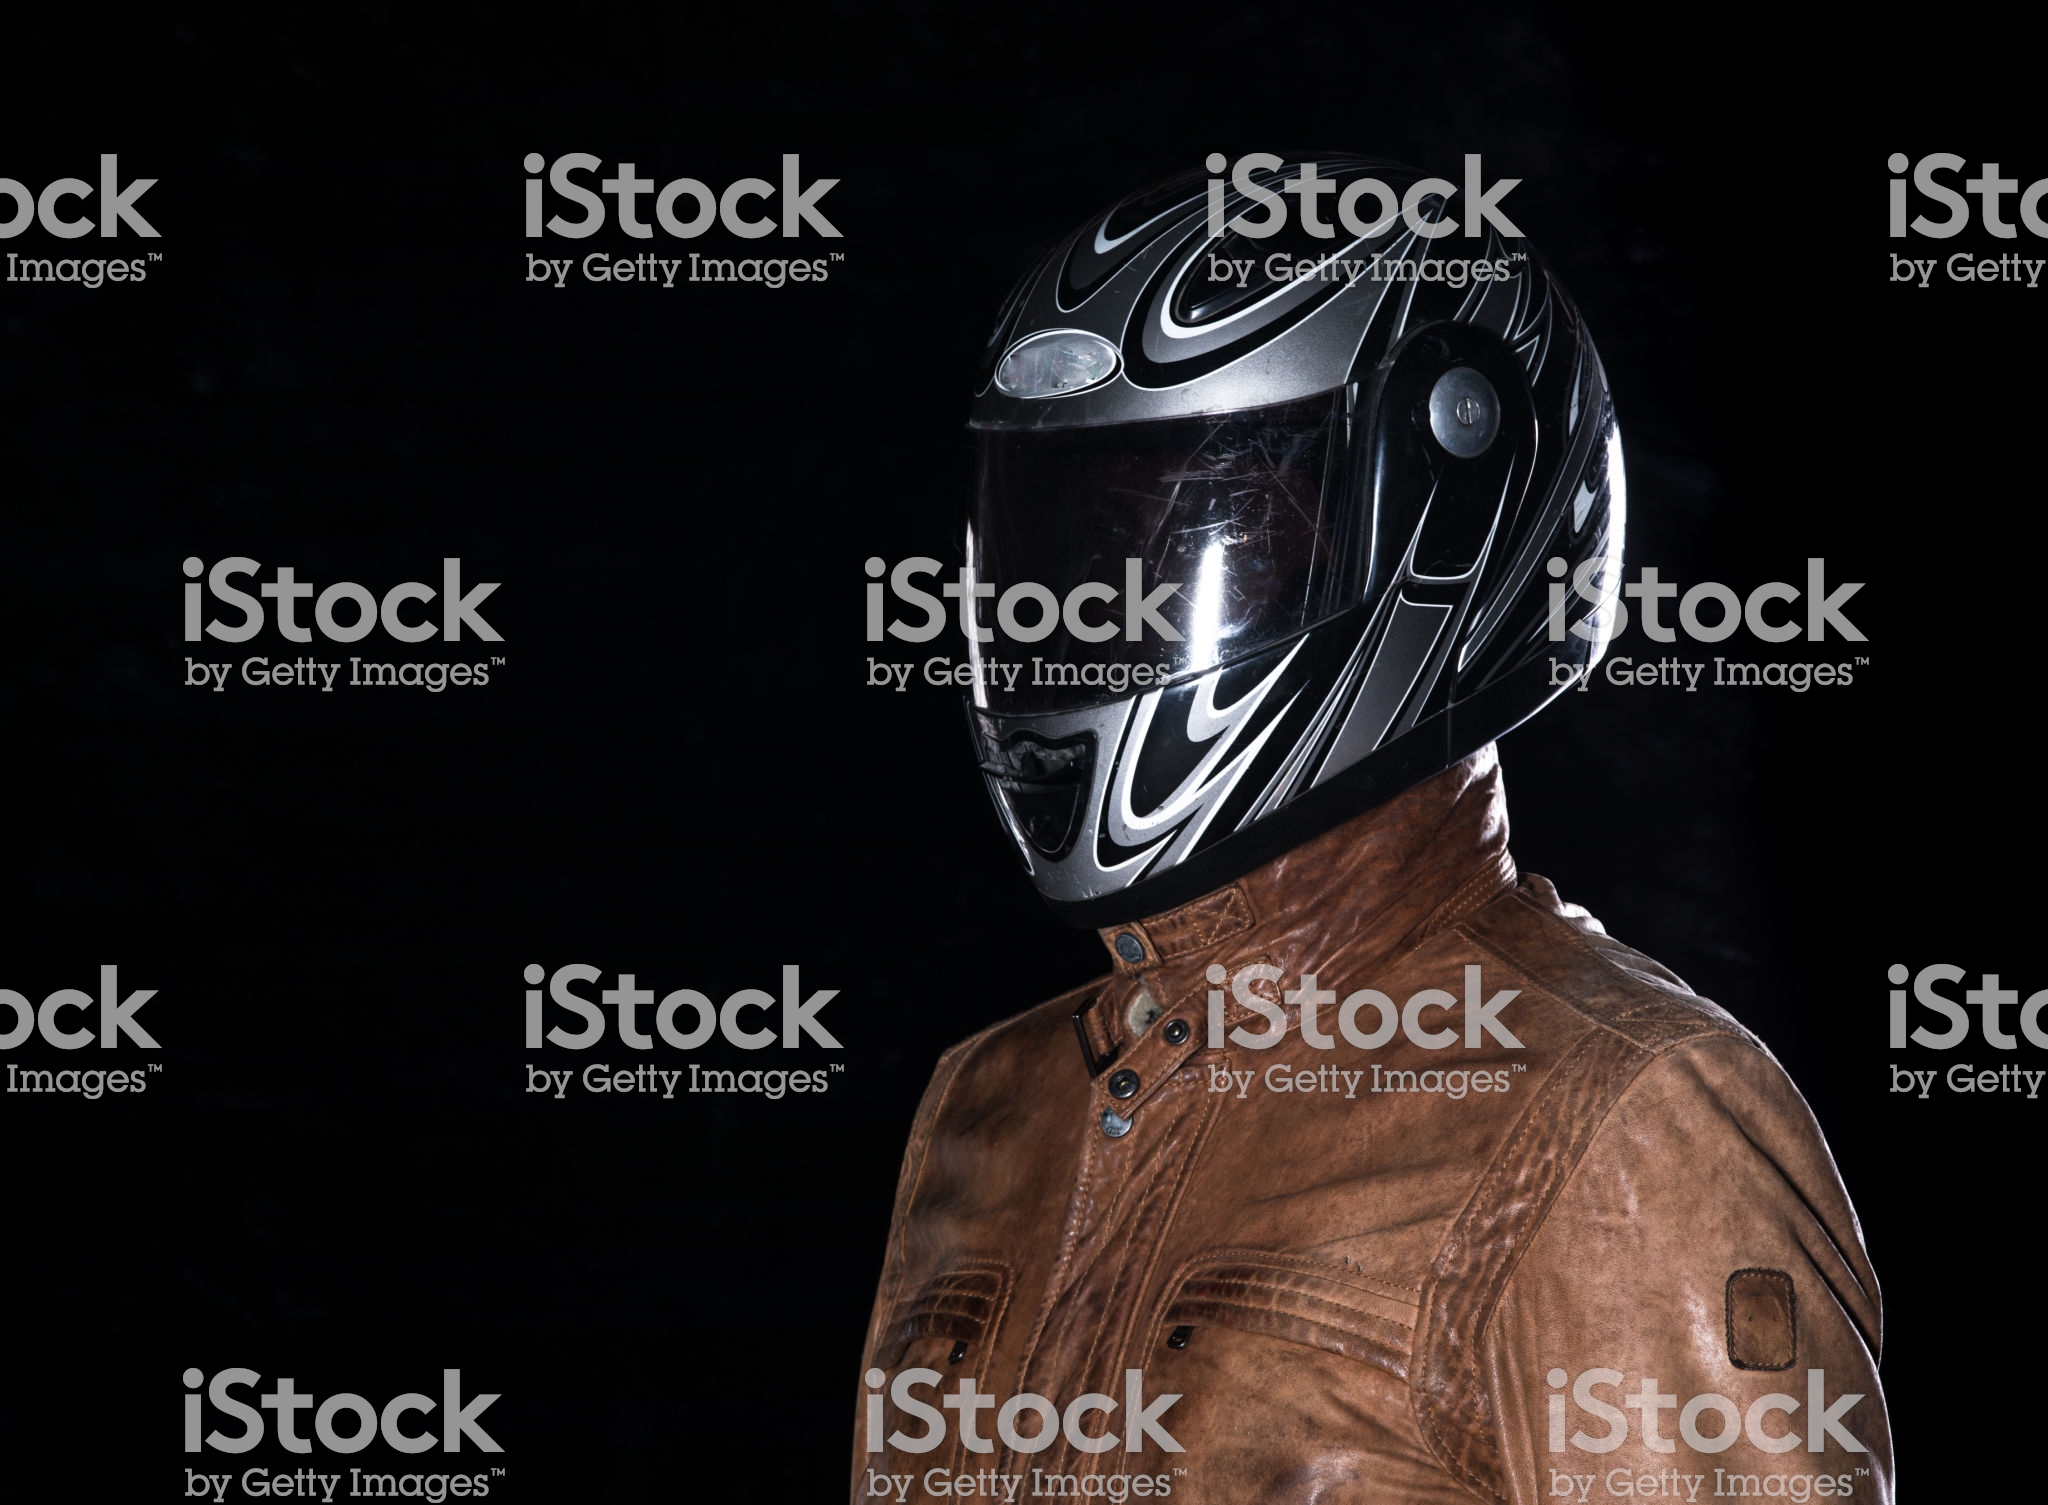helmet: (905, 135, 1623, 855)
